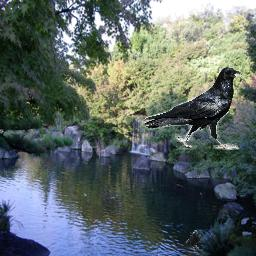Crow: (142, 67, 245, 150), (184, 229, 201, 252)
